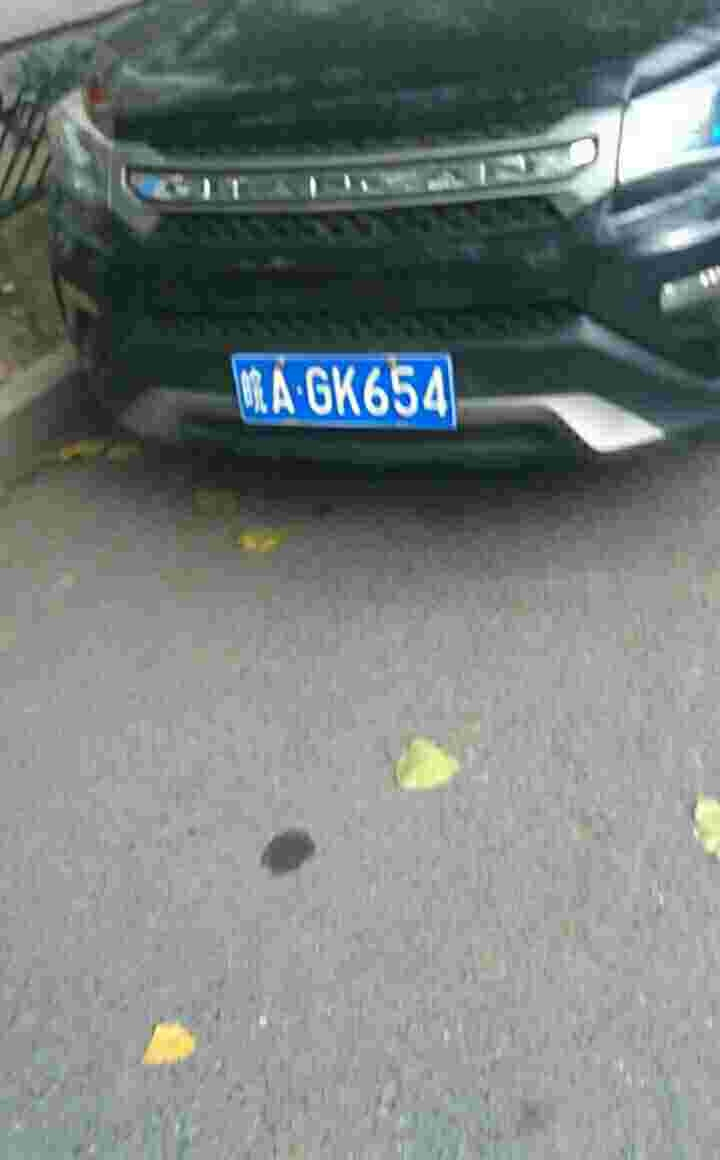license_plate: (234, 356, 454, 431)
